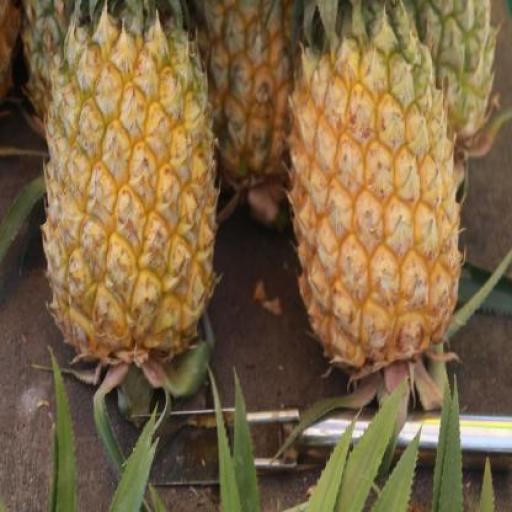Pineapple - v8 v1: (44, 22, 218, 364), (286, 25, 460, 365)
